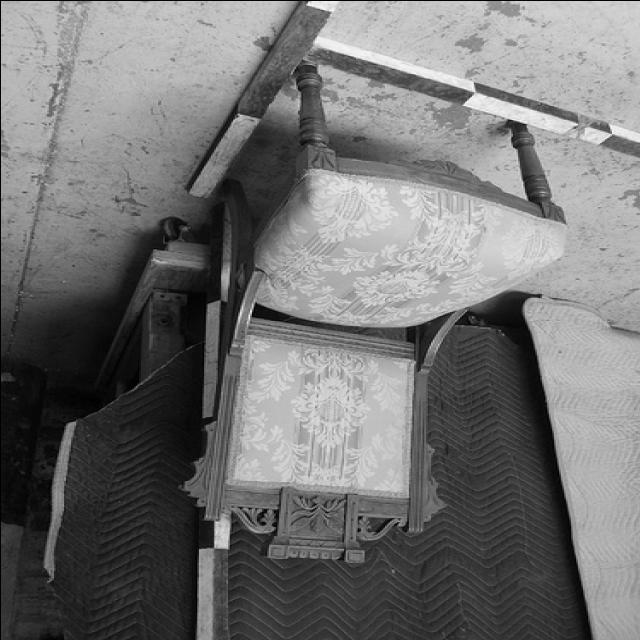chair: (181, 60, 568, 568)
